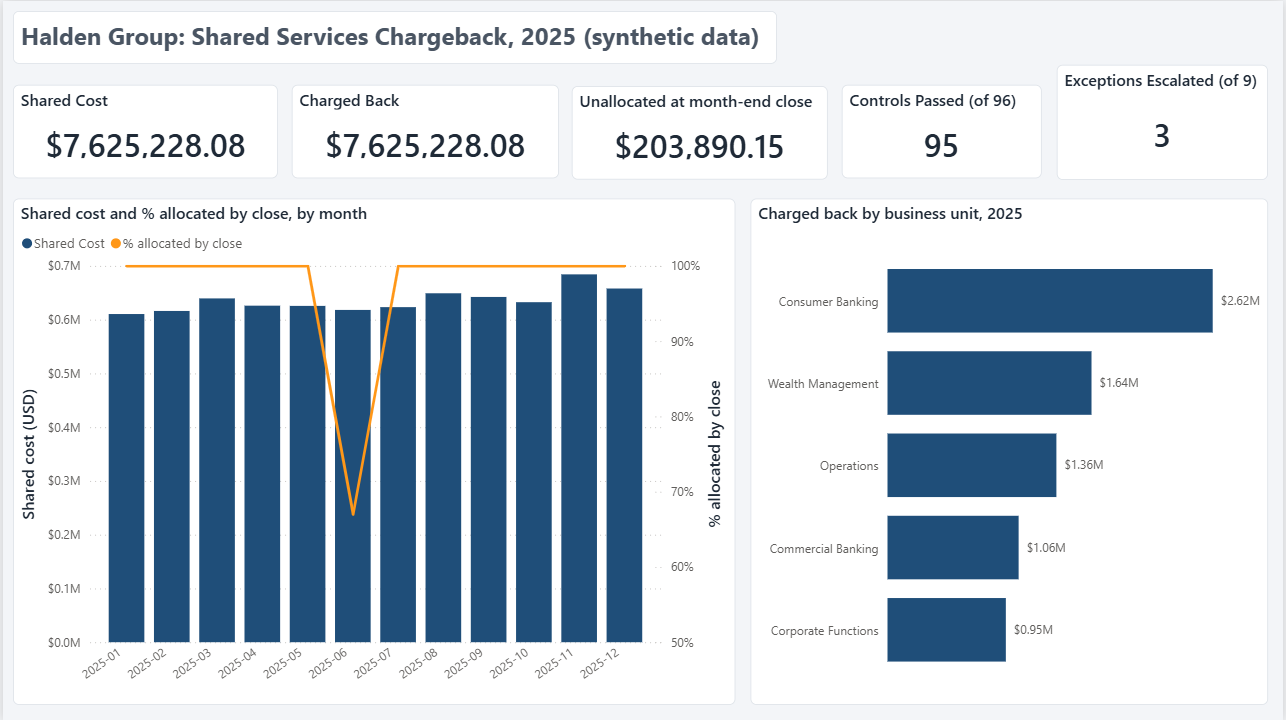

Layout of this report page (visuals, bound fields, positions):
{"tool":"powerbi","page":{"name":"Overview","canvas":[1280,720],"ordinal":0},"visuals":[{"type":"textbox","box":[10,10,763.8,52.5],"z":0},{"type":"cardVisual","title":"Shared Cost","fields":{"Data":["Report Measures.Shared Cost"]},"box":[10,73.8,265,115],"z":1000},{"type":"cardVisual","title":"Charged Back","fields":{"Data":["Report Measures.Charged Back"]},"box":[288.8,73.8,267.5,115],"z":2000},{"type":"cardVisual","title":"Unallocated at month-end close","fields":{"Data":["Report Measures.Unallocated at Close"]},"box":[568.8,73.8,256.2,115],"z":3000},{"type":"cardVisual","title":"Exceptions Escalated (of 9)","fields":{"Data":["Report Measures.Exceptions Escalated"]},"box":[1053.8,73.8,211.2,115],"z":4000},{"type":"cardVisual","title":"Controls Passed (of 96)","fields":{"Data":["Report Measures.Controls Passed"]},"box":[842.5,73.8,200,115],"z":5000},{"type":"lineClusteredColumnComboChart","title":"Shared cost and % allocated by close, by month","fields":{"Category":["DimPeriod.period"],"Y":["Report Measures.Shared Cost"],"Y2":["Report Measures.Allocated by Close %"]},"box":[10,197.5,722.5,506.2],"z":6000},{"type":"clusteredBarChart","title":"Charged back by business unit, 2025","fields":{"Y":["Report Measures.Charged Back"],"Category":["DimBusinessUnit.bu_name"]},"box":[747.5,197.5,517.5,506.2],"z":7000}]}

Visuals, with their boxes in screenshot pixels (x1, y1, x2, y2), scaled from the page's 1280x720 canvas onto the 1286x720 screenshot:
textbox: (x1=10, y1=10, x2=777, y2=62)
"Shared Cost" cardVisual: (x1=10, y1=74, x2=276, y2=189)
"Charged Back" cardVisual: (x1=290, y1=74, x2=559, y2=189)
"Unallocated at month-end close" cardVisual: (x1=571, y1=74, x2=829, y2=189)
"Exceptions Escalated (of 9)" cardVisual: (x1=1059, y1=74, x2=1271, y2=189)
"Controls Passed (of 96)" cardVisual: (x1=846, y1=74, x2=1047, y2=189)
"Shared cost and % allocated by close, by month" lineClusteredColumnComboChart: (x1=10, y1=198, x2=736, y2=704)
"Charged back by business unit, 2025" clusteredBarChart: (x1=751, y1=198, x2=1271, y2=704)
